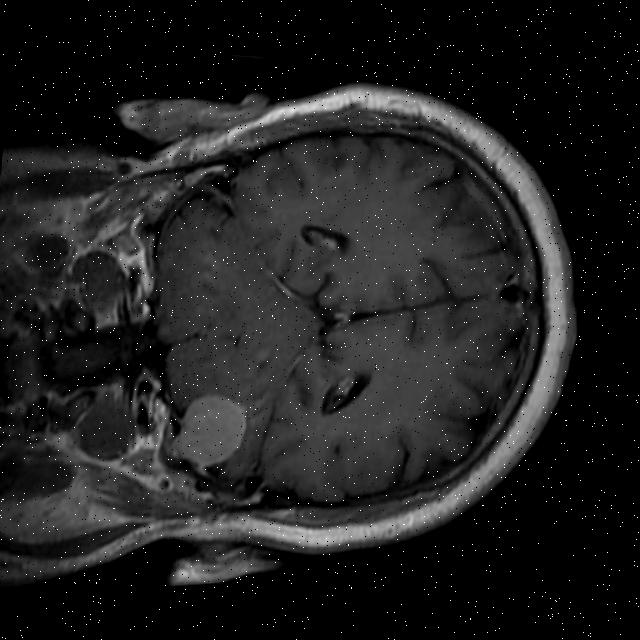Meningioma: (166, 391, 250, 482)
